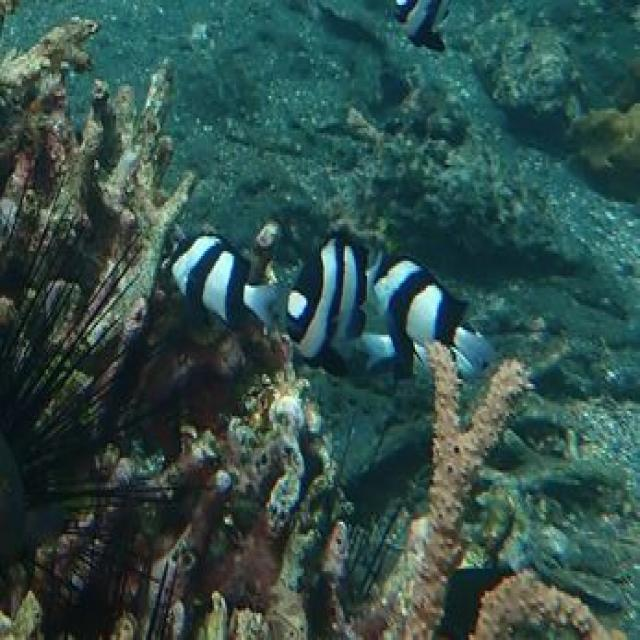Three_striped DasmselFish: (373, 248, 500, 382), (281, 227, 370, 379), (163, 227, 277, 336), (378, 0, 460, 54)
